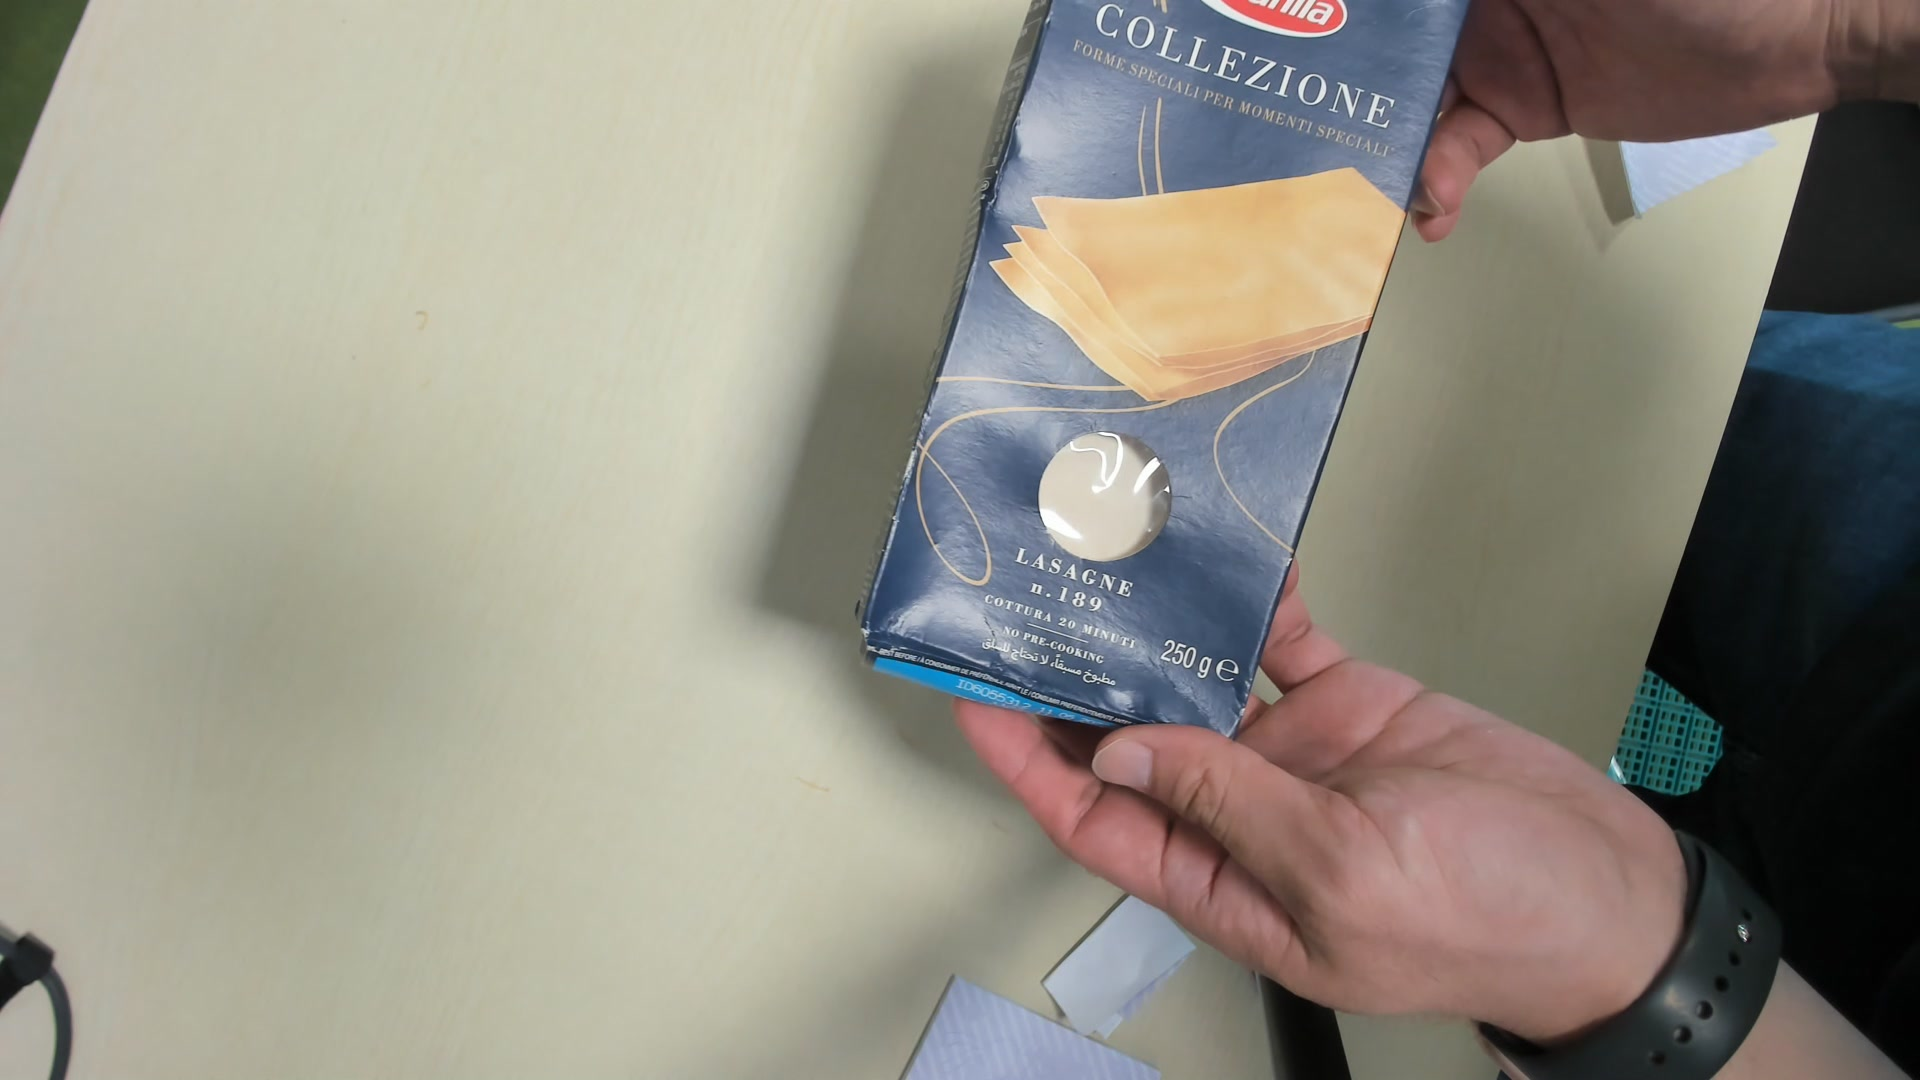InstantMeals_200_299g_NonHalal_NonHealthy: (856, 1, 1473, 748)
